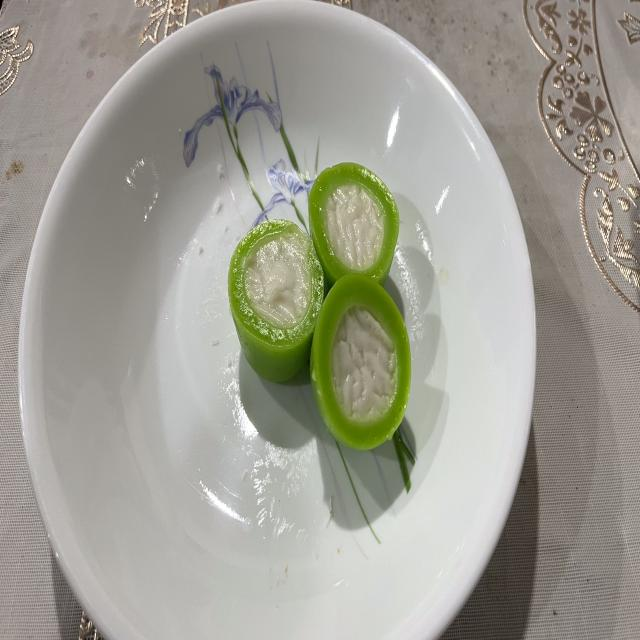nona-manis: (310, 273, 411, 449), (228, 220, 324, 382), (309, 162, 400, 284)
